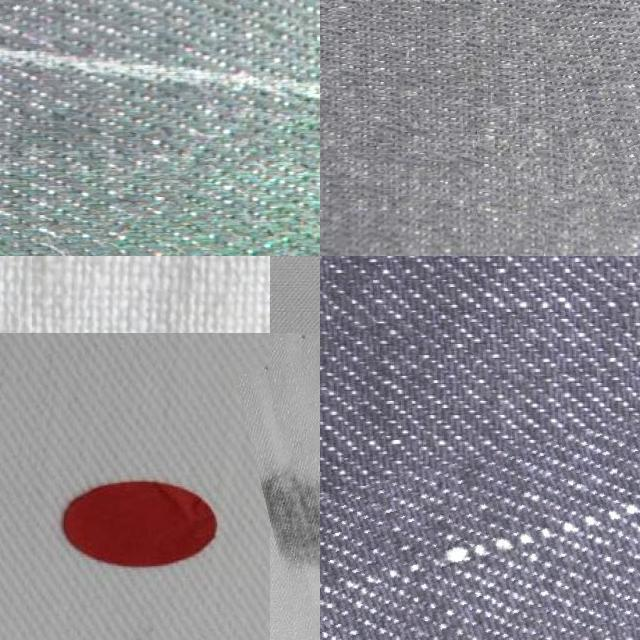Hole: (108, 628, 161, 640)
Thread_other: (320, 440, 640, 640), (480, 0, 640, 240)
